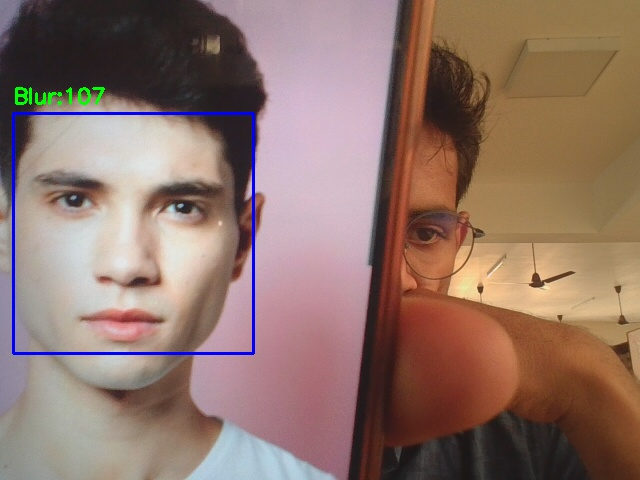fake: (13, 113, 253, 353)
